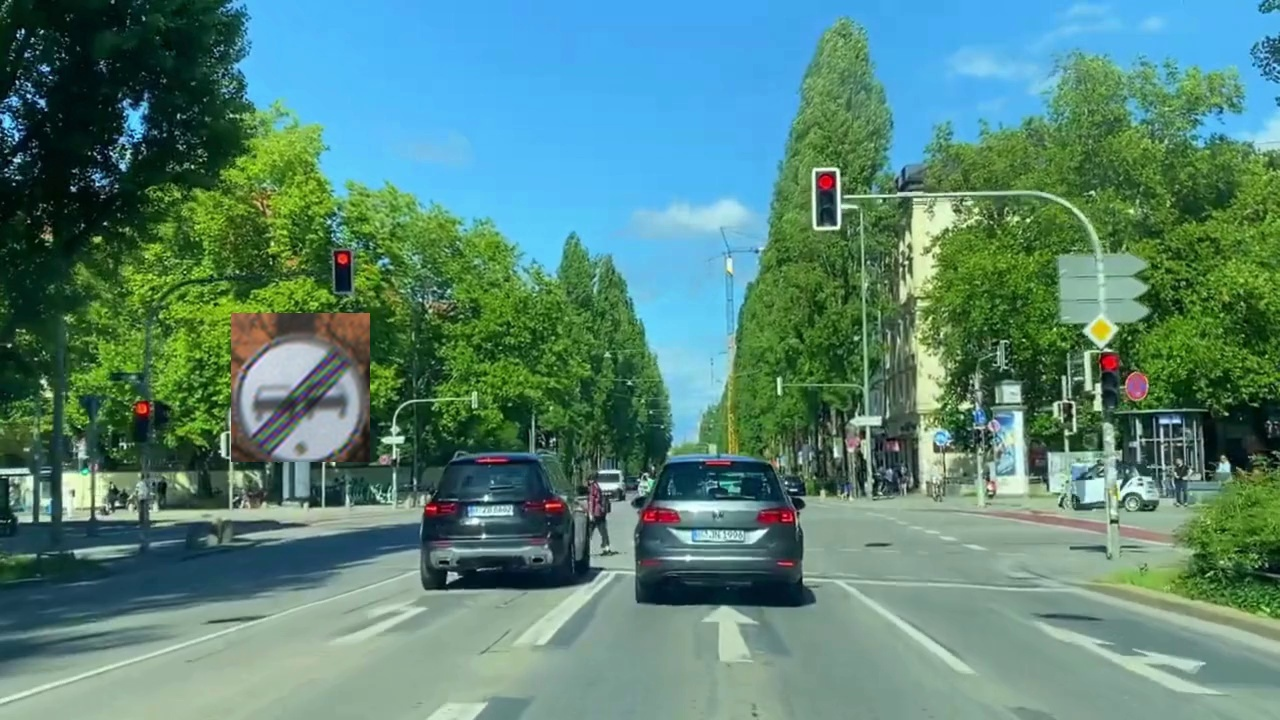End no pass: (231, 313, 370, 462)
